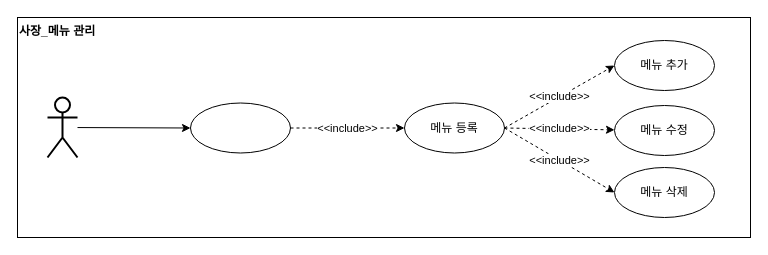
This 768x255 diagram has some shape labels left out. Each missing label, with the centre of its shape:
"메뉴 관리" belongs at point (240, 127).
"사장" belongs at point (62, 127).
